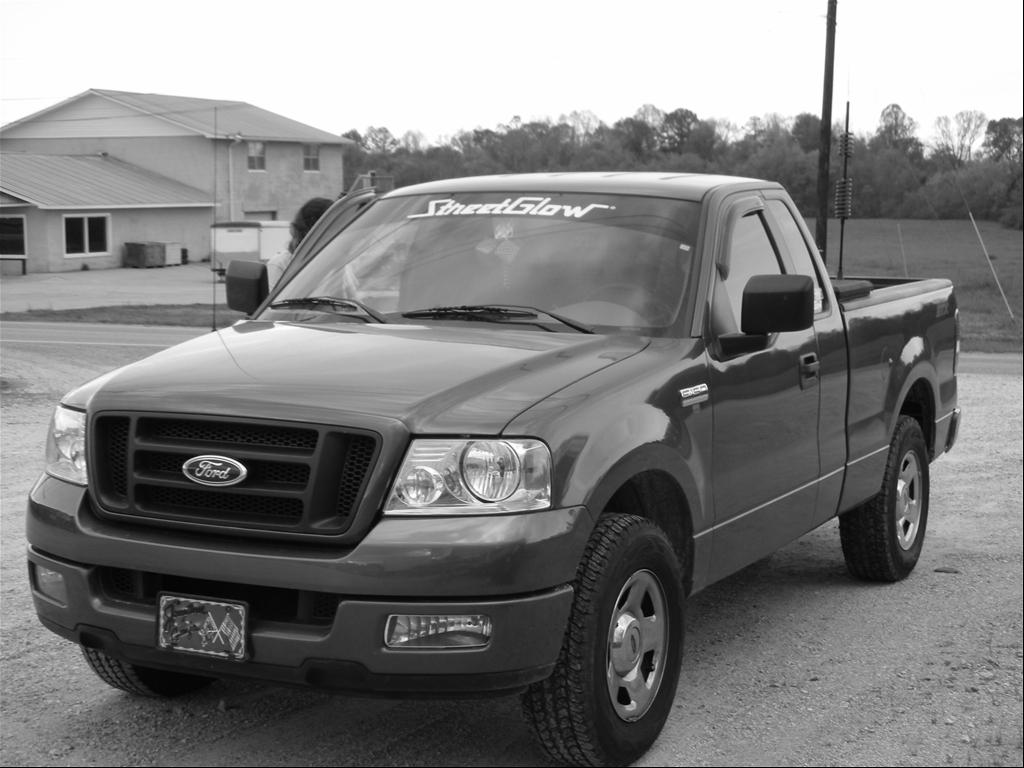car: (28, 172, 961, 767)
